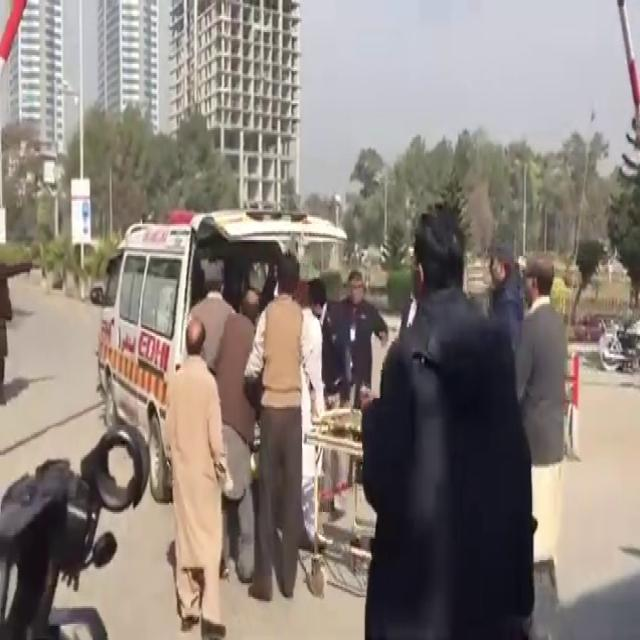ambulance: (78, 208, 308, 464)
